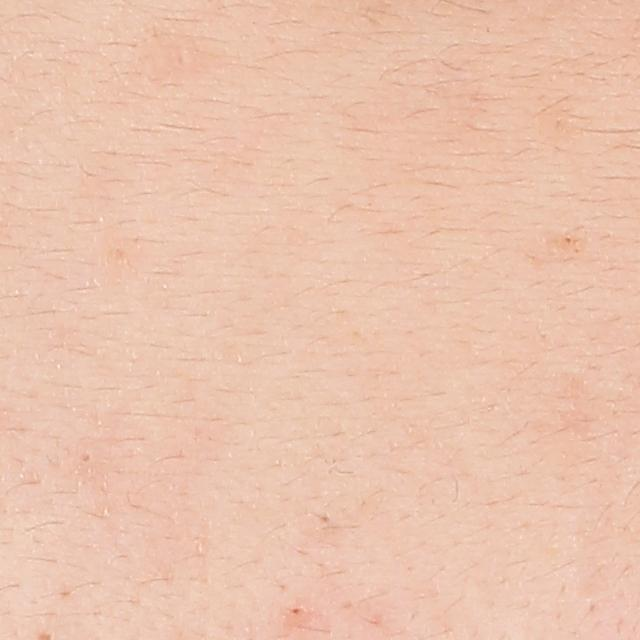comedo: (318, 511, 333, 526)
